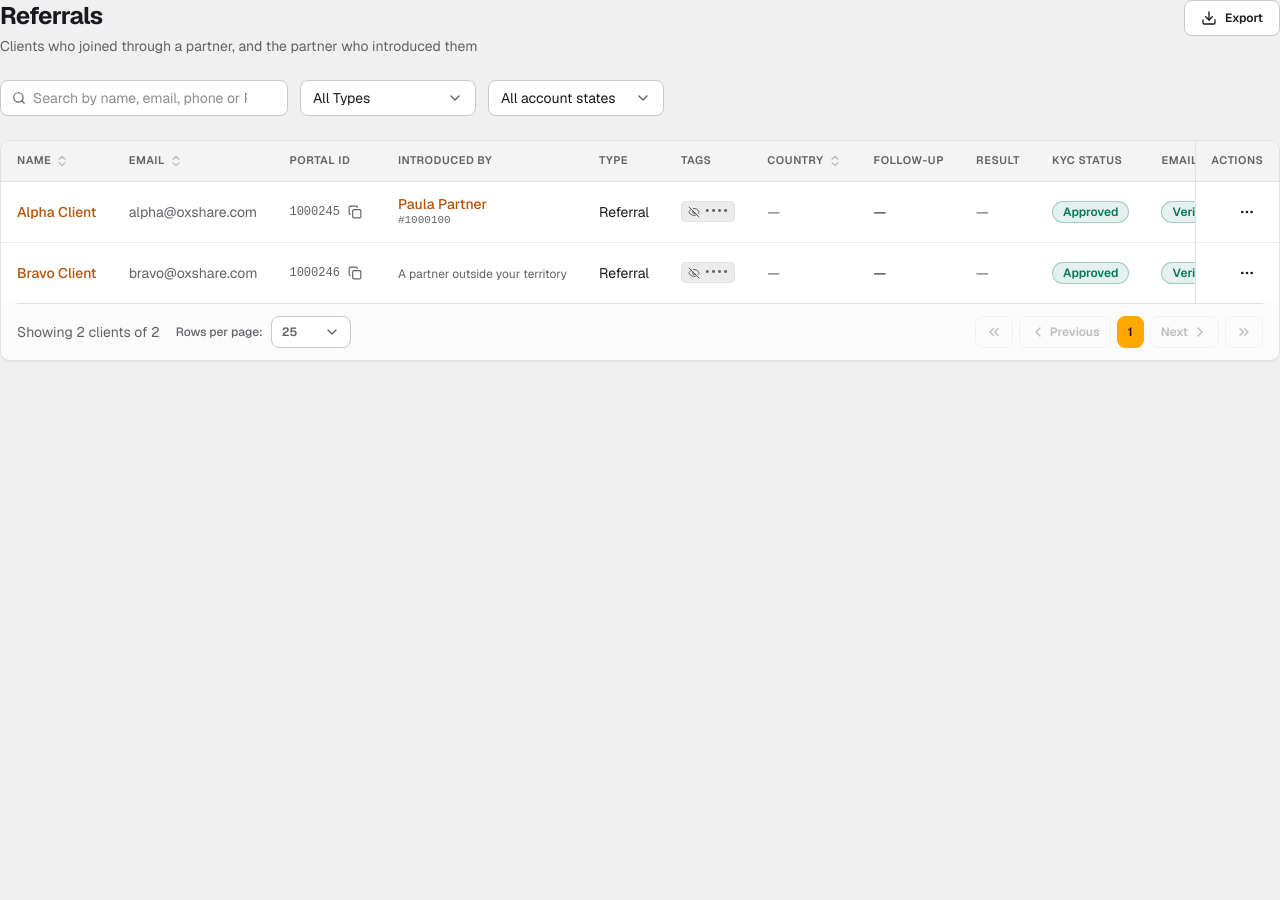
Scenario: moving a referral to another partner (owner, 15 Oct 2026) › offers main partners AND sub-partners, never the current one, and saves the choice
This screenshot has width=1280, height=900.
Check: the text "alpha@oxshare.com" is shown, box x1=129 y1=202 x2=257 y2=222
Click the button named "Actions for Alpha Client" at (1247, 212), box x1=1231 y1=196 x2=1263 y2=228
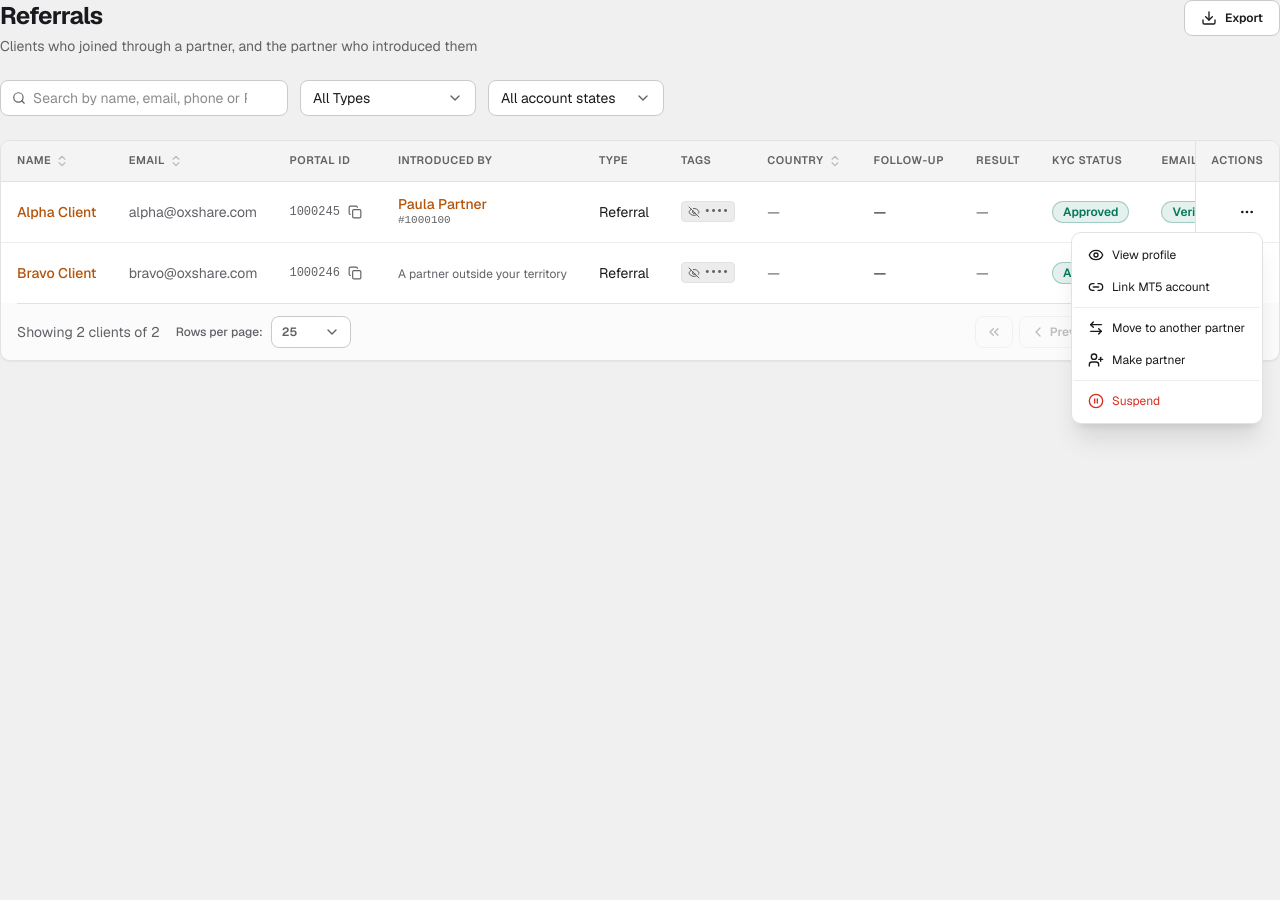
Click the menu item "Move to another partner" at (1167, 328), box x1=1088 y1=320 x2=1245 y2=336
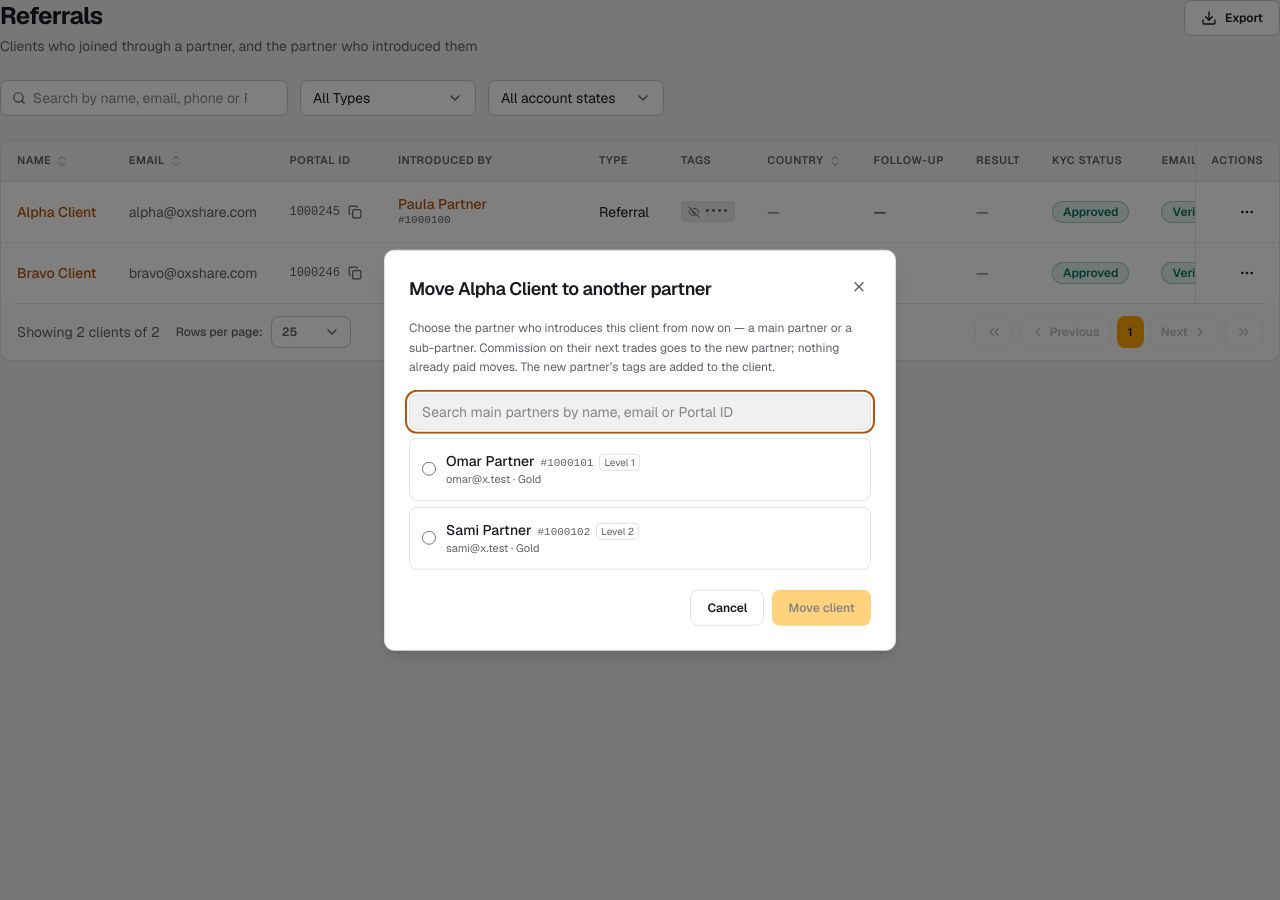
Check: the text "Omar Partner" is shown, box x1=446 y1=450 x2=535 y2=470
Check: the text "Sami Partner" is shown, box x1=446 y1=519 x2=531 y2=539
Check: the text "Level 2" is shown, box x1=596 y1=522 x2=639 y2=539
Click the radio button labelled "Sami Partner #1000102 Level 2 sami@x.test · Gold" at (429, 538), box x1=422 y1=531 x2=436 y2=545
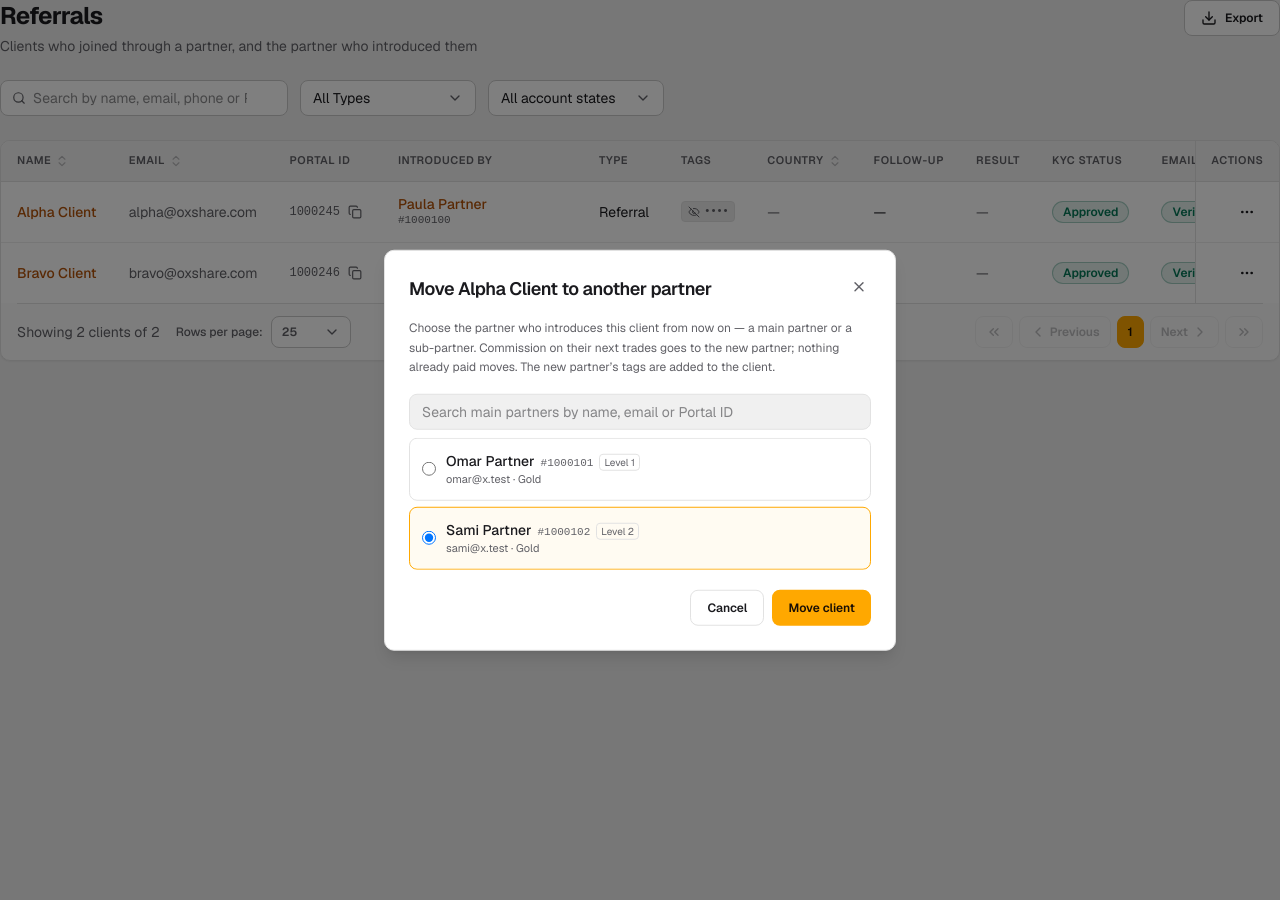
Click the button "Move client" at (822, 607), box x1=772 y1=589 x2=871 y2=625
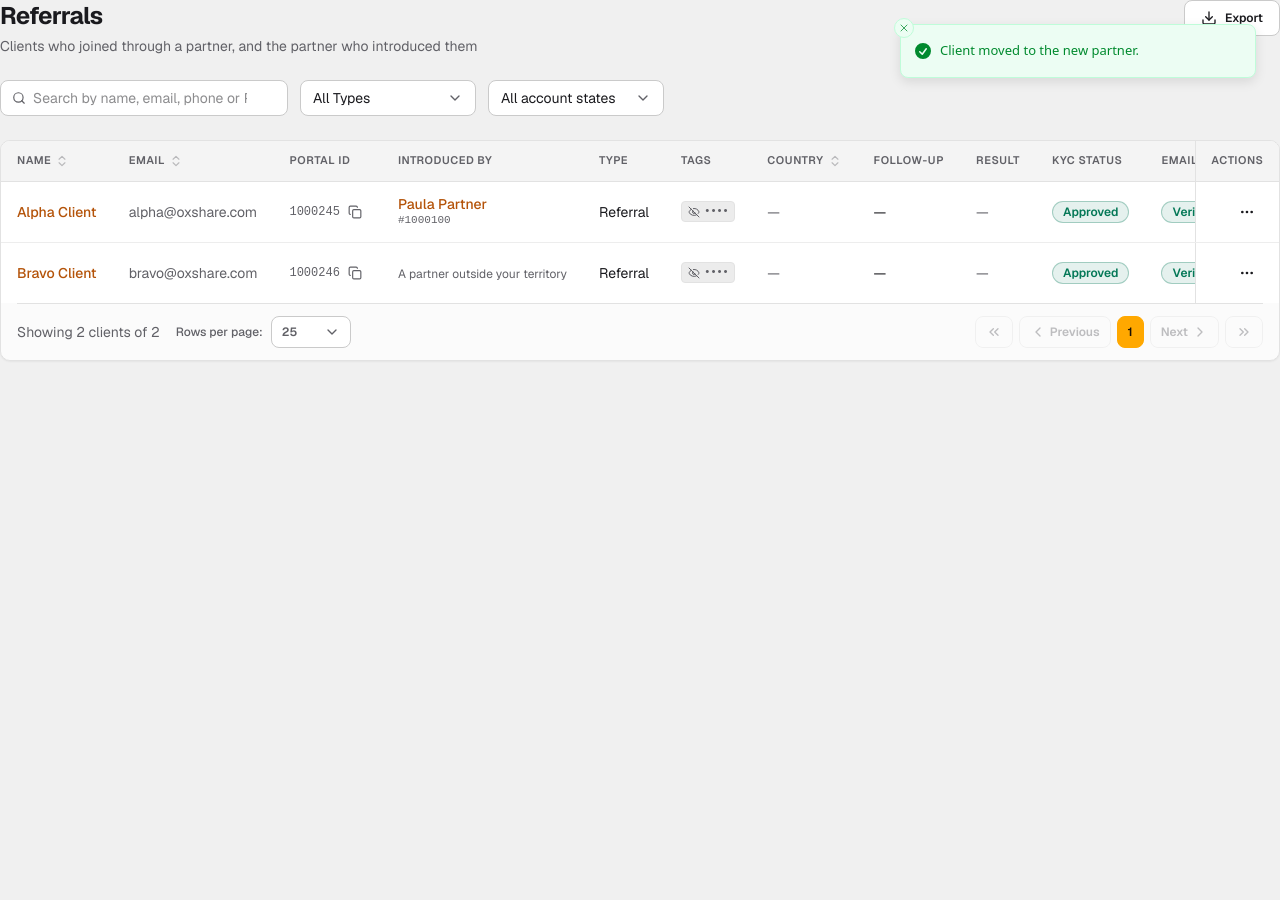
Check: the dialog is gone
